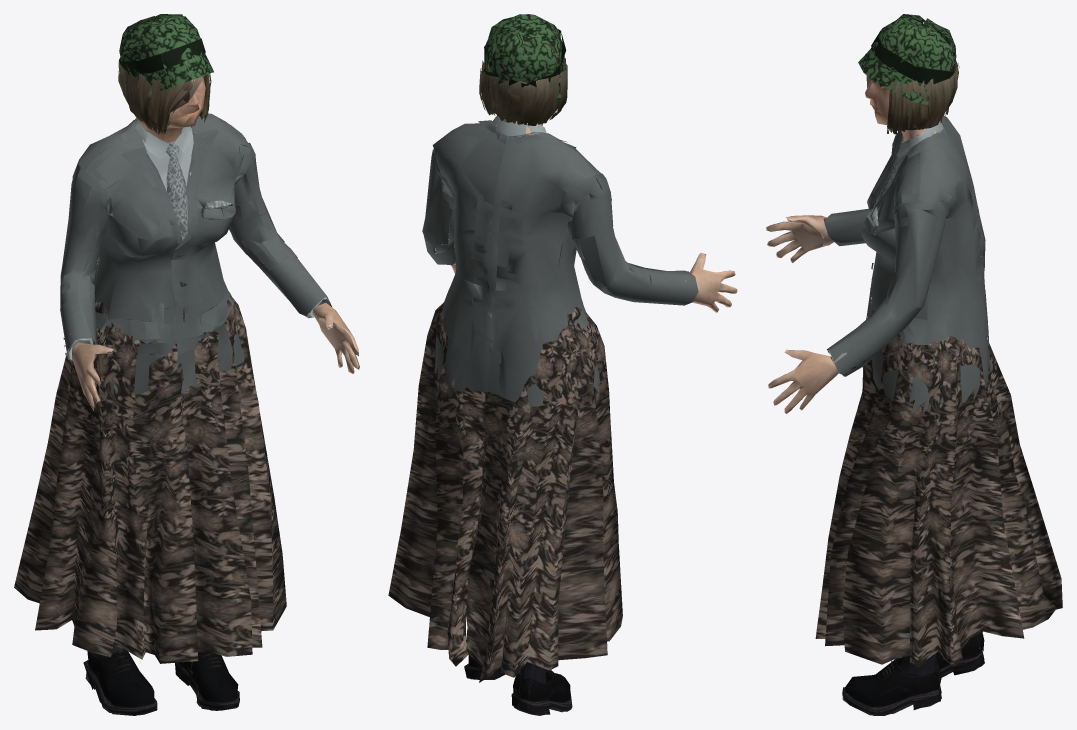
The picture shows the model from 3 angles, left to right: view 1: azimuth 30°, elevation 25°; view 2: azimuth 150°, elevation 25°; view 3: azimuth 270°, elevation 25°; orthographic projection.
Visible parts, largest first — view 1: Modell; view 2: Modell; view 3: Modell.
Part boxes in pixels (x1,y1,x2,y2): Modell: [14, 14, 359, 715]; Modell: [388, 14, 737, 715]; Modell: [766, 14, 1062, 715].
Size of the model in its own units: 0.7385 by 1.78 by 0.7106.
Materials: 8 (8 with a texture image).
